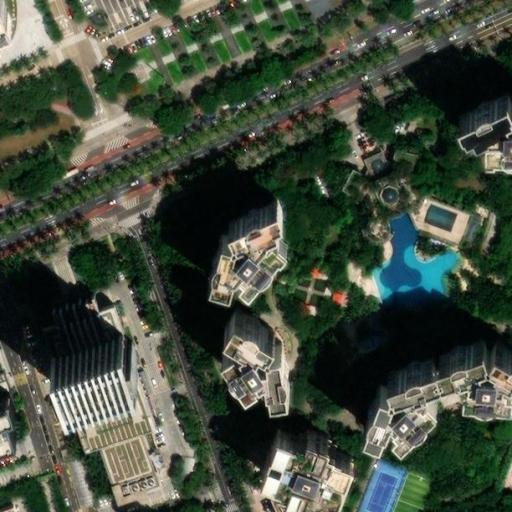building: (376, 344, 512, 441), (75, 385, 171, 484), (267, 433, 359, 508), (218, 206, 298, 291), (62, 331, 154, 401), (231, 316, 304, 400), (50, 301, 126, 366), (350, 154, 392, 203), (0, 405, 40, 455), (378, 174, 422, 219), (473, 102, 512, 147), (430, 209, 463, 235)
